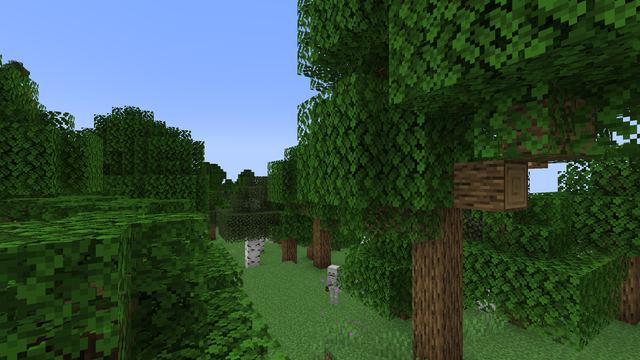squelettes: (326, 264, 341, 307)
